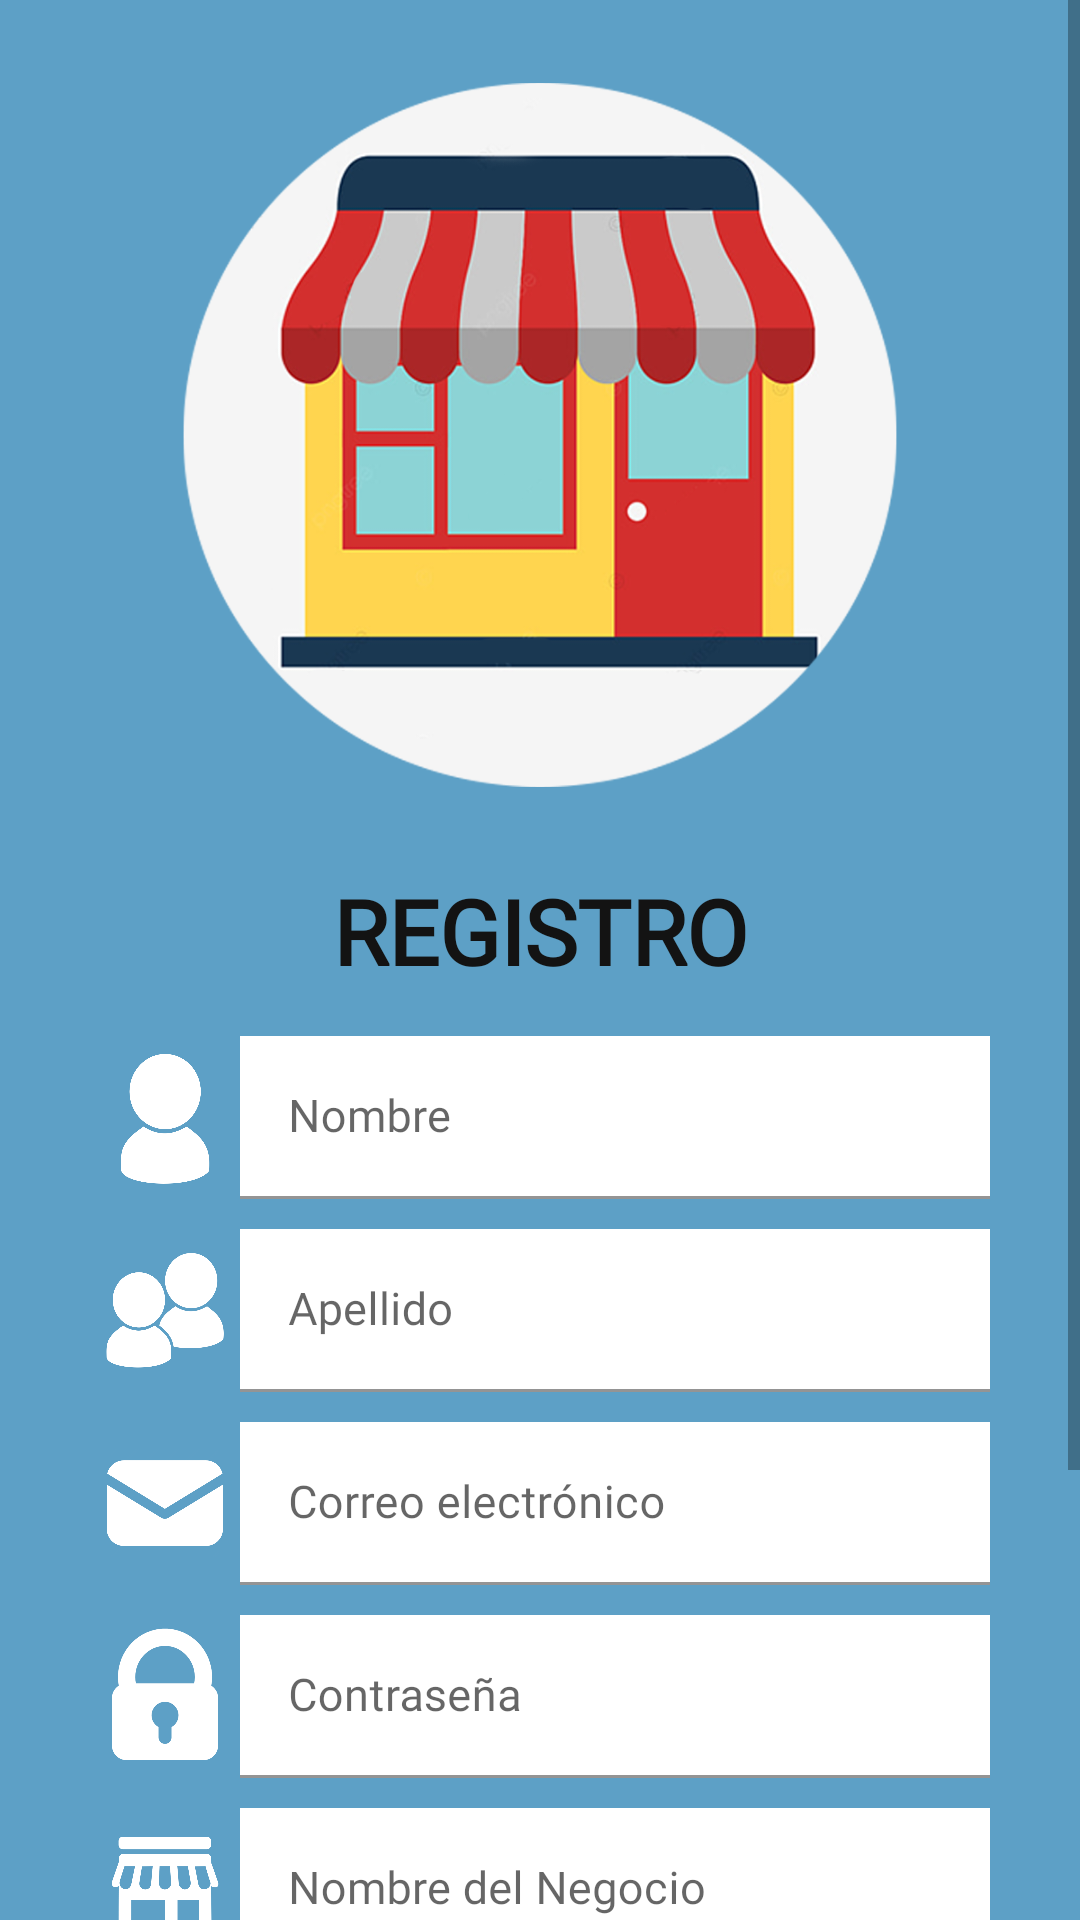

Named icons in this screenshot (1080px x 1920px) and their bounding boxes, bbox=[x1, y1, x2, y2]:
message: bbox=[107, 1460, 223, 1546]
passwordlock: bbox=[112, 1628, 218, 1760]
people: bbox=[106, 1253, 224, 1368]
person: bbox=[121, 1054, 210, 1184]
